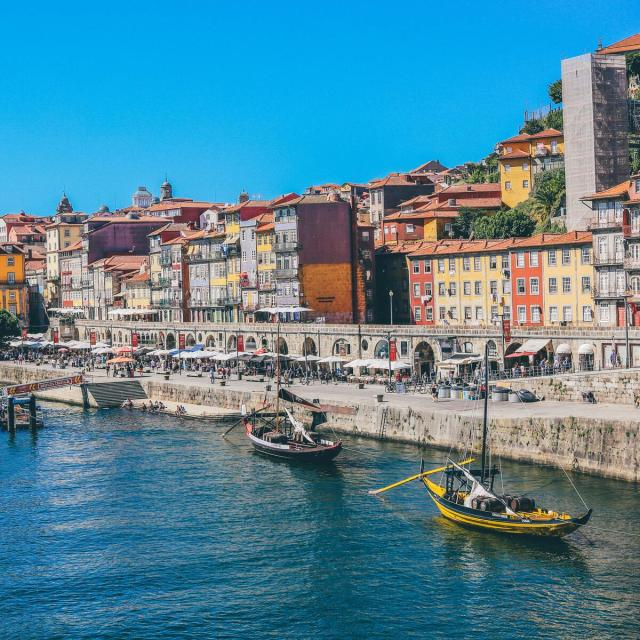boat: (420, 448, 606, 545), (230, 386, 352, 484)
